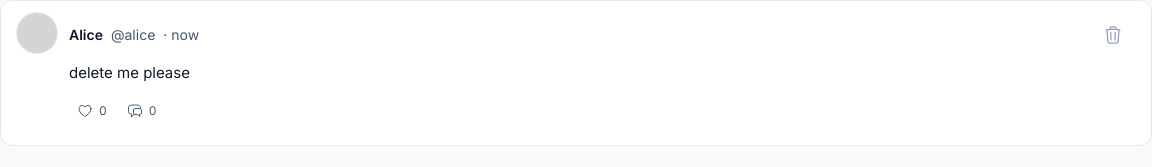
TimelineFeed › removes the tweet optimistically after a confirmed delete
expect the text "delete me please" is shown: met, box [69, 63, 190, 82]
What coordinates should you click on to do the following:
click the button named "delete tweet"
I would click on:
 (1113, 35)
Its box is [1091, 13, 1135, 57].
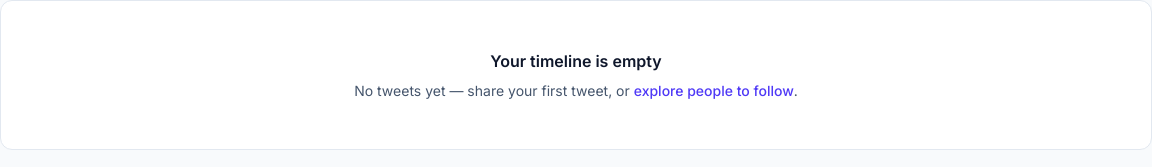
expect the text "delete me please" is gone: met
